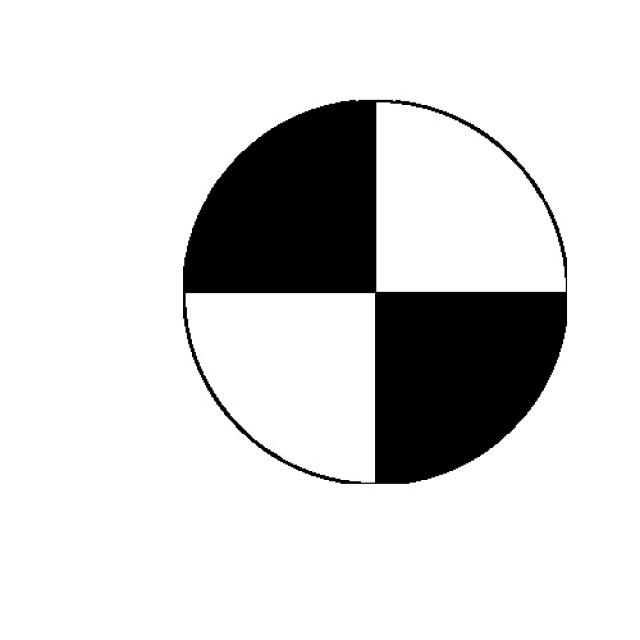Marcadores: (185, 101, 568, 484)
